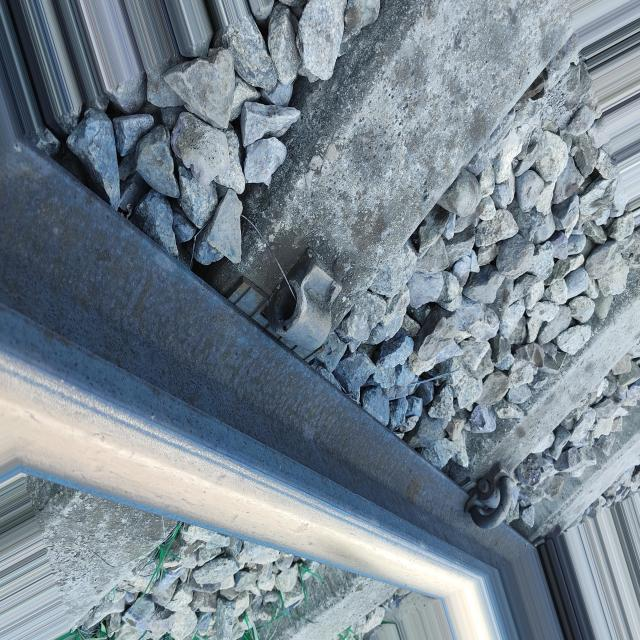Good Fasteners: (464, 463, 514, 529)
Missing Fastener: (262, 224, 344, 346)
